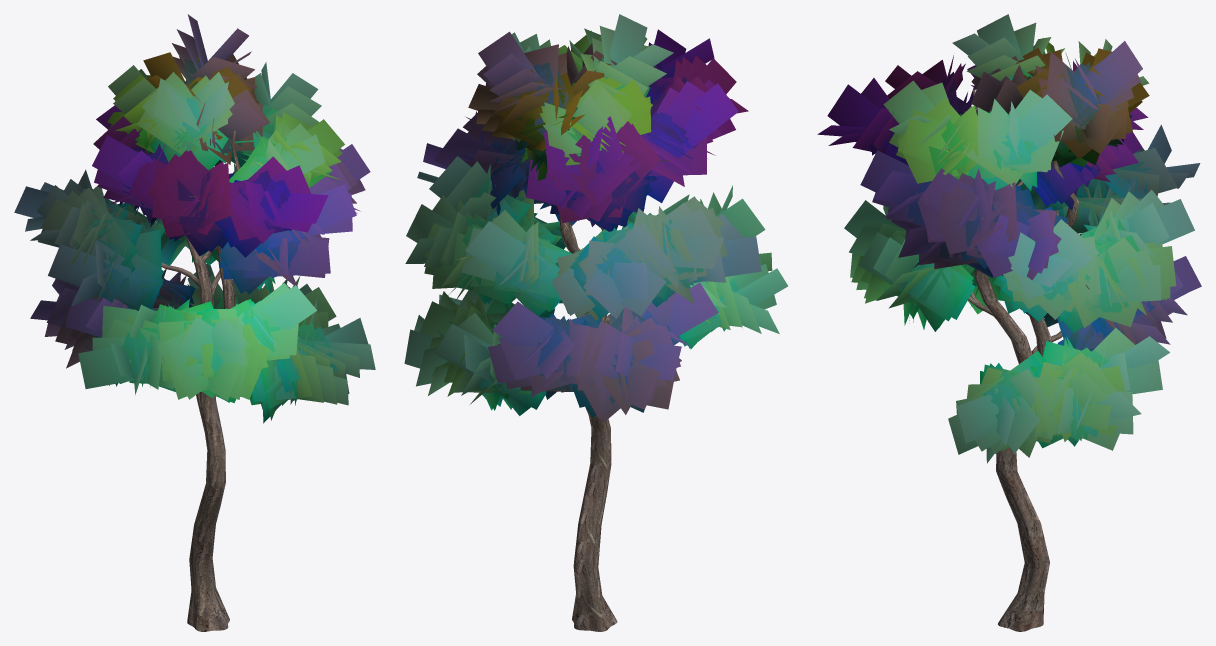
File: AutumnTree.fbx
3 views of the same model, side by side, from view 1: azimuth 30°, elevation 25°; view 2: azimuth 150°, elevation 25°; view 3: azimuth 270°, elevation 25° (orthographic). The views are drawn at different scales.
Visible parts, largest first — view 1: Tree_1, Tree_0; view 2: Tree_1, Tree_0; view 3: Tree_1, Tree_0.
Boxes of the visible parts, bbox=[...] form: Tree_1: bbox=[14, 14, 375, 423]; Tree_0: bbox=[161, 130, 240, 631]; Tree_1: bbox=[404, 14, 787, 422]; Tree_0: bbox=[457, 160, 668, 631]; Tree_1: bbox=[817, 14, 1201, 463]; Tree_0: bbox=[943, 89, 1096, 631].
Bounding box in the file's own units: 298 × 531 × 311.
